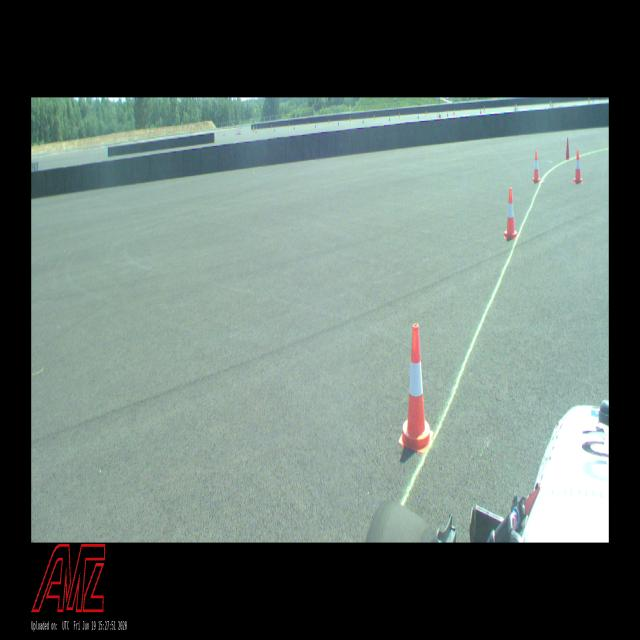orange_cone: (399, 324, 433, 452), (504, 188, 516, 238), (574, 150, 582, 183), (533, 152, 540, 182)
unknown_cone: (566, 138, 569, 159)
